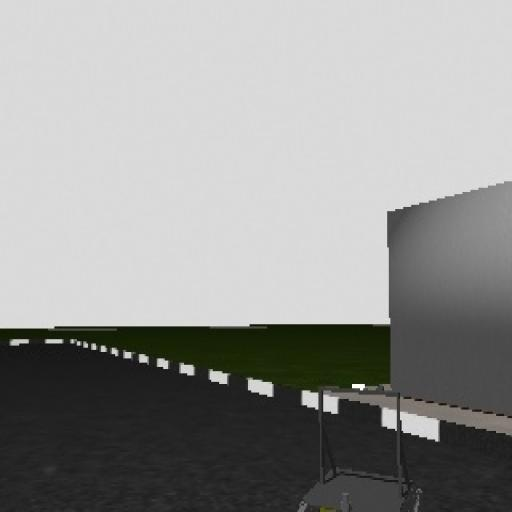huskya200: (292, 377, 434, 512)
